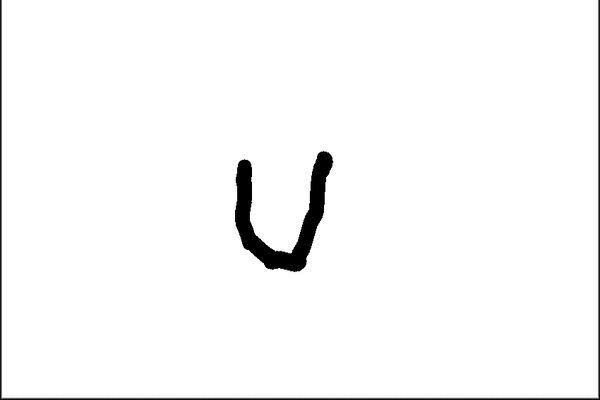U: (224, 143, 356, 277)
